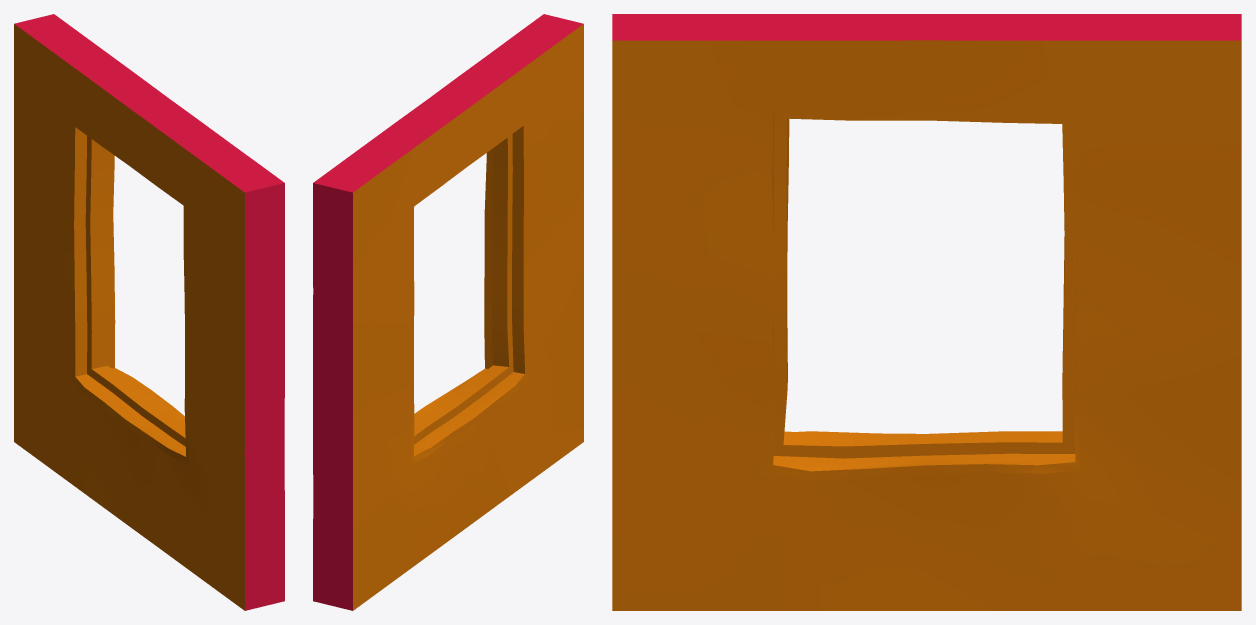
The model's file is Wall_Window_Half_Unfractured.fbx.
3 views of the same model, side by side, from view 1: azimuth 30°, elevation 25°; view 2: azimuth 150°, elevation 25°; view 3: azimuth 270°, elevation 25° (orthographic). The views are drawn at different scales.
Visible parts, largest first — view 1: Wall_Window_Half_Unfractured; view 2: Wall_Window_Half_Unfractured; view 3: Wall_Window_Half_Unfractured.
Part boxes in pixels (bbox=[...]): Wall_Window_Half_Unfractured: bbox=[14, 14, 284, 610]; Wall_Window_Half_Unfractured: bbox=[313, 14, 583, 610]; Wall_Window_Half_Unfractured: bbox=[612, 14, 1241, 610].
Bounding box in the file's own units: 121 × 1000 × 1000.
